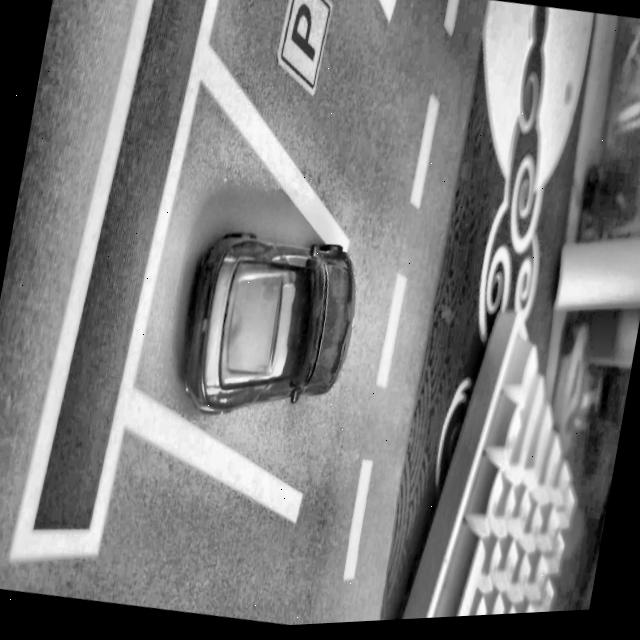car: (173, 220, 367, 440)
